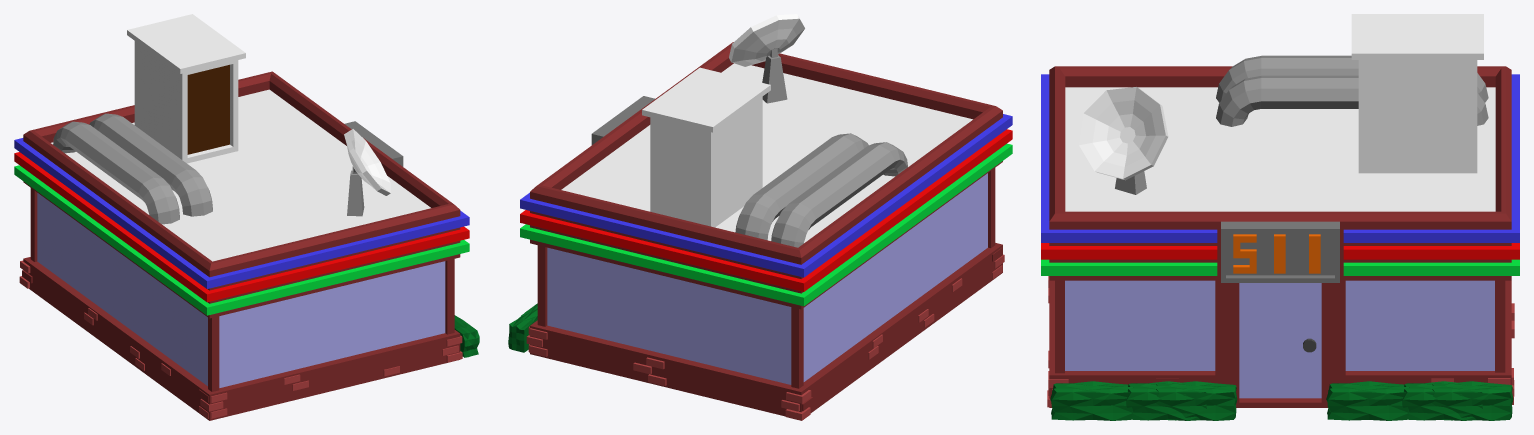
The model's file is 5-Eleven.FBX.
The picture shows the model from 3 angles, left to right: view 1: azimuth 30°, elevation 25°; view 2: azimuth 150°, elevation 25°; view 3: azimuth 270°, elevation 25°; orthographic projection. The views are drawn at different scales.
Visible parts, largest first — view 1: 511; view 2: 511; view 3: 511.
Part boxes in pixels (x1,y1,x2,y2): 511: (14,14,479,420); 511: (508,14,1012,420); 511: (1041,14,1519,420).
Bounding box in the file's own units: 306 × 252 × 367.
1 material, 1 textured.
